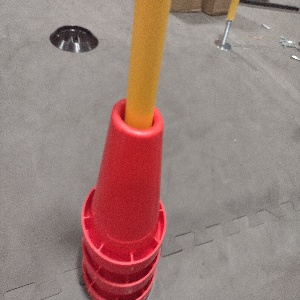Red_3: (79, 94, 168, 299)
